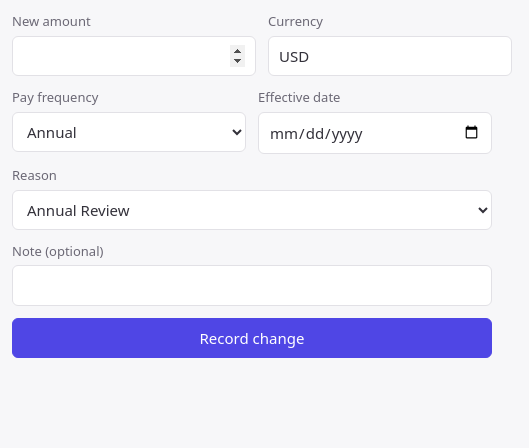
Test: RecordRaiseForm › submits the raise with amount converted to cents
Type "135000" into the number field labelled "New amount".
click(134, 56); type("135000")  # box [12,36,256,76]
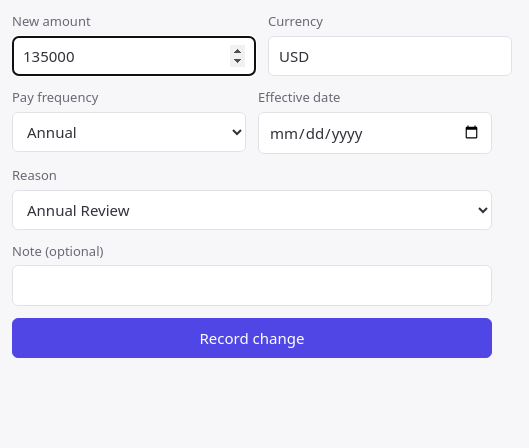
Type "2026-06-01" into the date field labelled "Effective date".
click(375, 133); type("2026-06-01")  # box [258,112,492,154]
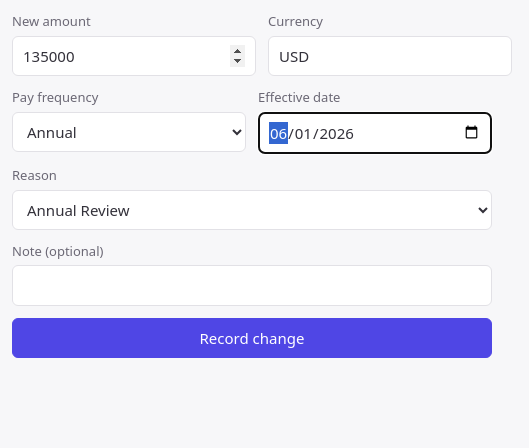
Select "Promotion" in the dropdown labelled "Reason" at (252, 210), box [12,190,492,230]
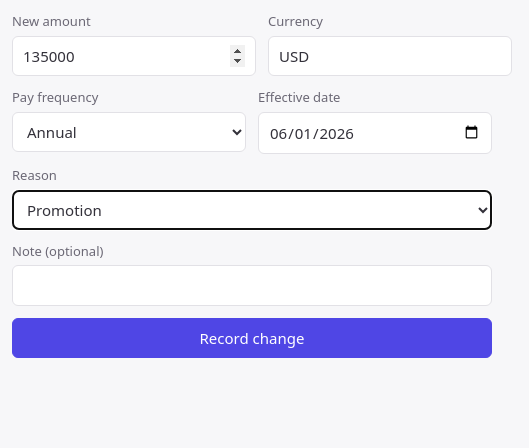
Click the button "Record change".
click(252, 338)  # box [12,318,492,358]
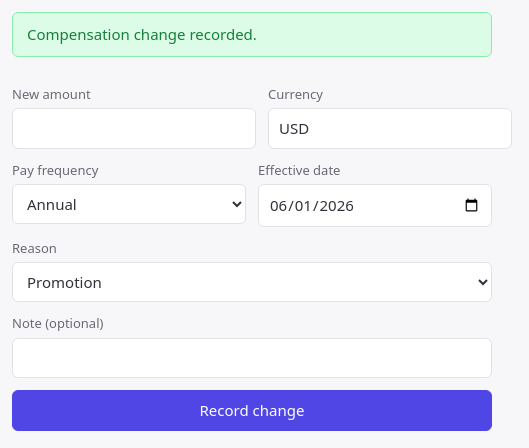
Now the message reads "Compensation change recorded.", box [27,24,257,44]
